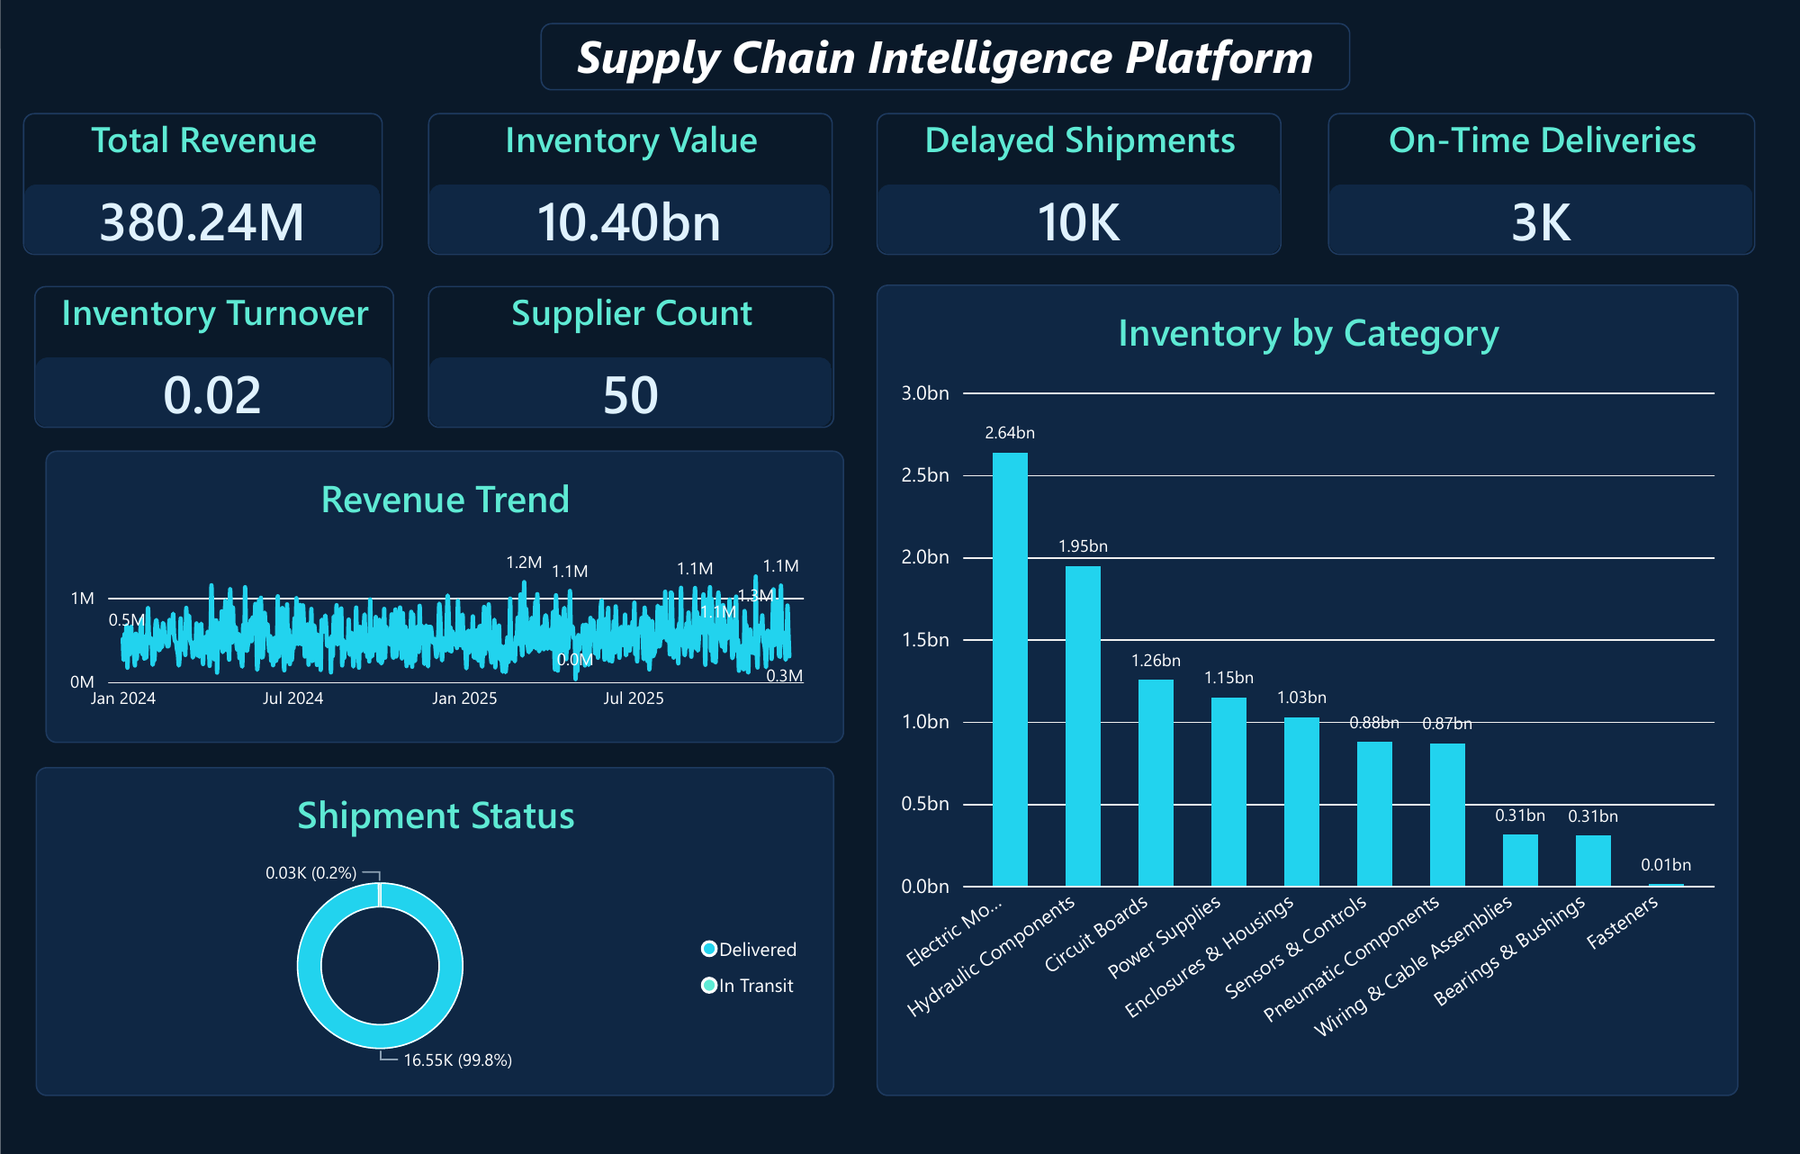

The dashboard page shown, as its layout file describes it:
{"tool":"powerbi","page":{"name":" Executive Dashboard","canvas":[1280,820],"ordinal":0},"visuals":[{"type":"cardVisual","title":"Total Revenue","fields":{"Data":["fact_sales_orders.Total Revenue"]},"box":[16.2,79.9,255.9,101.4],"z":0},{"type":"cardVisual","title":"Inventory Value","fields":{"Data":["dim_calendar.Inventory Value"]},"box":[304.3,79.9,287.3,101.4],"z":1000},{"type":"cardVisual","title":"Delayed Shipments","fields":{"Data":["dim_calendar.Delayed Shipments"]},"box":[623,79.9,288.2,101.4],"z":2000},{"type":"cardVisual","title":"On-Time Deliveries","fields":{"Data":["dim_calendar.On-Time Deliveries"]},"box":[944.4,79.9,303.4,101.4],"z":3000},{"type":"cardVisual","title":"Inventory Turnover","fields":{"Data":["dim_calendar.Inventory Turnover"]},"box":[24.2,202.9,255.9,101.4],"z":4000},{"type":"cardVisual","title":"Supplier Count","fields":{"Data":["dim_calendar.Supplier Count"]},"box":[304.3,202.9,288.2,101.4],"z":5000},{"type":"lineChart","title":"Revenue Trend","fields":{"Category":["dim_calendar.Date.Variation.Date Hierarchy.Year"],"Y":["fact_sales_orders.Total Revenue"]},"box":[32,320,568.3,208.3],"z":6000},{"type":"donutChart","title":"Shipment Status","fields":{"Category":["fact_shipments.Status"],"Y":["CountNonNull(fact_shipments.ShipmentID)"]},"box":[24.5,545,568.5,234.1],"z":7000},{"type":"clusteredColumnChart","title":"Inventory by Category","fields":{"Category":["dim_products.Category"],"Y":["dim_calendar.Inventory Value"]},"box":[622.7,202.4,613.5,576.7],"z":8000},{"type":"textbox","box":[480,16,464,48],"z":10000},{"type":"textbox","box":[384.4,16.4,575.6,48.1],"z":11000}]}

Visuals, with their boxes in screenshot pixels (x1, y1, x2, y2), scaled from the page's 1280x820 canvas onto the 1800x1154 screenshot:
"Total Revenue" cardVisual: detection(23, 112, 383, 255)
"Inventory Value" cardVisual: detection(428, 112, 832, 255)
"Delayed Shipments" cardVisual: detection(876, 112, 1281, 255)
"On-Time Deliveries" cardVisual: detection(1328, 112, 1755, 255)
"Inventory Turnover" cardVisual: detection(34, 286, 394, 428)
"Supplier Count" cardVisual: detection(428, 286, 833, 428)
"Revenue Trend" lineChart: detection(45, 450, 844, 743)
"Shipment Status" donutChart: detection(34, 767, 834, 1096)
"Inventory by Category" clusteredColumnChart: detection(876, 285, 1738, 1096)
textbox: detection(675, 23, 1328, 90)
textbox: detection(541, 23, 1350, 91)
